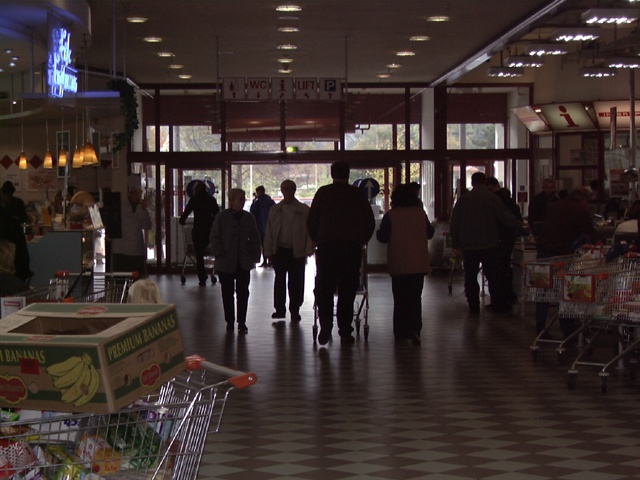person: (303, 156, 377, 346), (369, 179, 432, 341), (445, 169, 511, 320), (203, 185, 258, 334), (262, 181, 311, 321)
